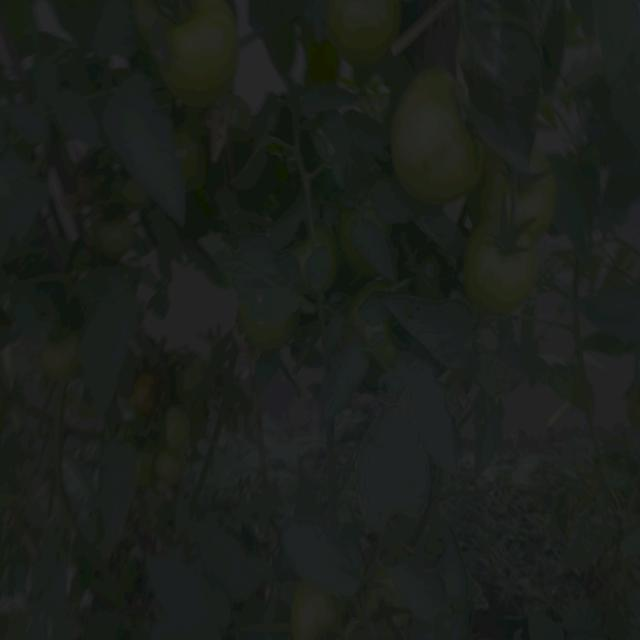tomato: (395, 73, 471, 198), (159, 6, 246, 107), (466, 225, 546, 320), (476, 151, 559, 229), (328, 1, 404, 70), (291, 580, 343, 640), (230, 305, 283, 353), (365, 321, 410, 366), (99, 214, 138, 265), (130, 373, 165, 422), (44, 334, 77, 382), (153, 445, 188, 490), (182, 131, 204, 186), (166, 410, 190, 450)
